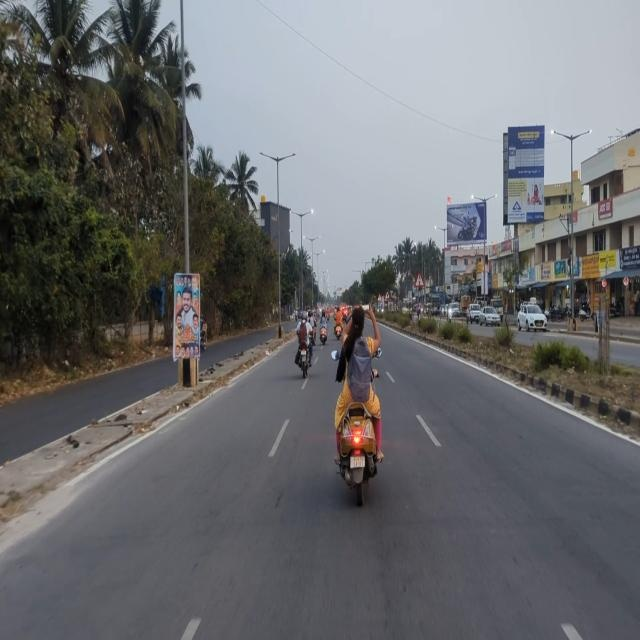bien_nguy_hiem: (414, 270, 426, 288), (384, 290, 390, 300), (377, 292, 382, 303)
